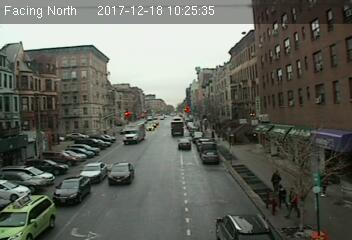car: (1, 190, 59, 239), (214, 213, 274, 240), (54, 175, 89, 204), (107, 160, 133, 185), (80, 163, 106, 179), (202, 151, 218, 162), (178, 138, 191, 148)
pedestrian: (286, 185, 303, 221), (272, 169, 281, 194)
truck: (123, 124, 147, 142)
ups: (170, 120, 184, 137)
